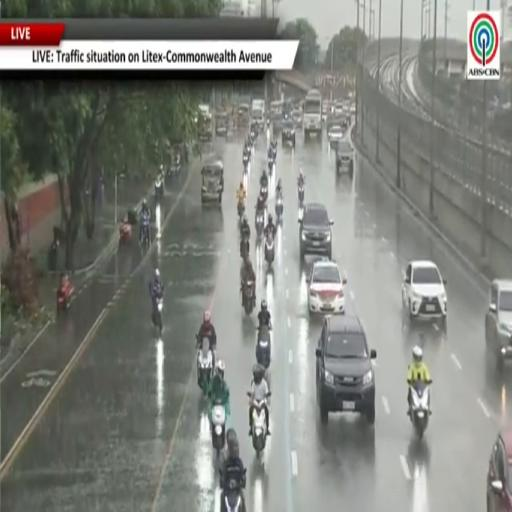car: (316, 315, 376, 424), (402, 261, 447, 328), (485, 280, 511, 365), (308, 259, 346, 313), (487, 428, 511, 511), (299, 203, 333, 261), (336, 140, 353, 179), (328, 124, 344, 149), (282, 119, 295, 148), (292, 109, 302, 129)
motorcycle: (248, 392, 270, 456), (409, 381, 430, 439), (198, 338, 213, 395), (212, 402, 226, 457), (221, 479, 245, 511), (255, 325, 271, 370), (57, 280, 74, 313), (243, 281, 255, 314), (153, 298, 163, 334), (265, 233, 275, 265), (167, 156, 181, 178), (119, 221, 131, 246), (141, 219, 150, 248), (255, 211, 264, 238), (240, 235, 249, 261), (154, 178, 163, 202), (276, 195, 283, 222), (237, 201, 245, 222), (298, 184, 305, 207), (260, 184, 268, 201), (243, 153, 250, 172), (268, 156, 275, 175)
truck: (303, 89, 322, 139), (252, 100, 264, 129)
